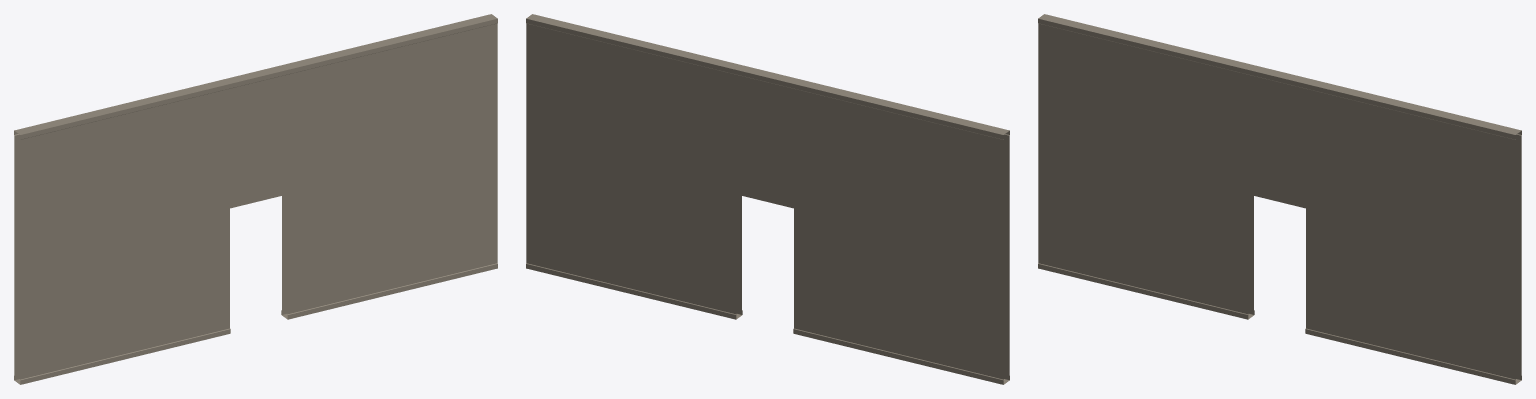
The model's file is Wall_10x5_SingleDoor.fbx.
The picture shows the model from 3 angles, left to right: view 1: azimuth 30°, elevation 25°; view 2: azimuth 150°, elevation 25°; view 3: azimuth 330°, elevation 25°; orthographic projection.
Visible parts, largest first — view 1: Wall_10x5_SingleDoor; view 2: Wall_10x5_SingleDoor; view 3: Wall_10x5_SingleDoor.
Boxes of the visible parts, bbox=[...] form: Wall_10x5_SingleDoor: bbox=[14, 14, 497, 384]; Wall_10x5_SingleDoor: bbox=[526, 14, 1009, 384]; Wall_10x5_SingleDoor: bbox=[1038, 14, 1521, 384].
Size of the model in its own units: 10 by 5 by 0.23.
